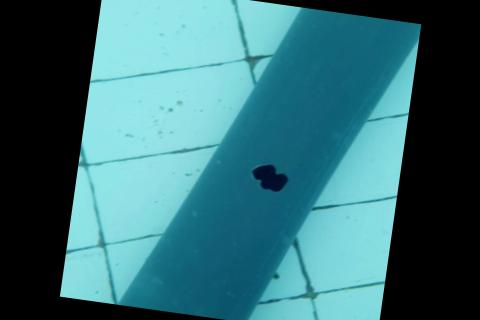kebocoran: (246, 159, 291, 193)
